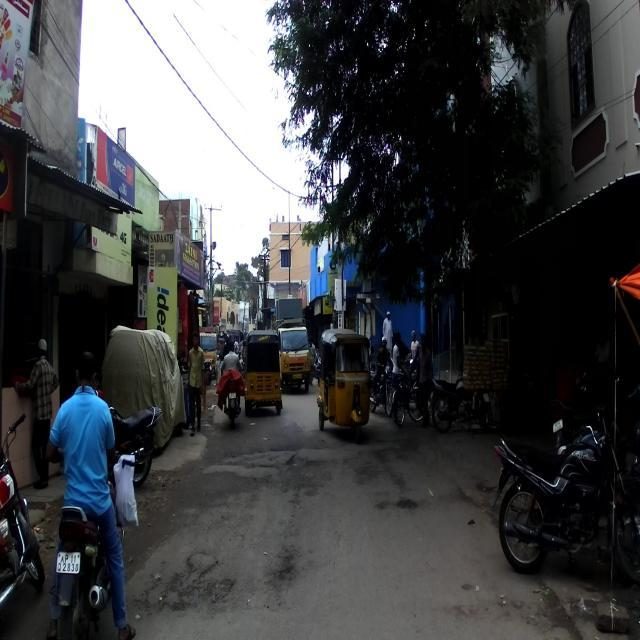pothole: (451, 563, 571, 640), (162, 512, 232, 640), (224, 441, 350, 497), (256, 532, 319, 637), (372, 437, 424, 550)
